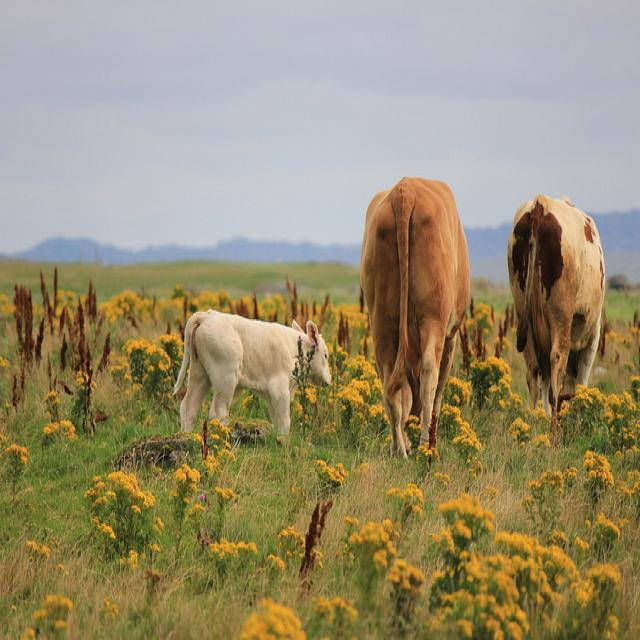cow: (357, 168, 471, 471), (506, 190, 604, 417), (168, 307, 331, 433)
